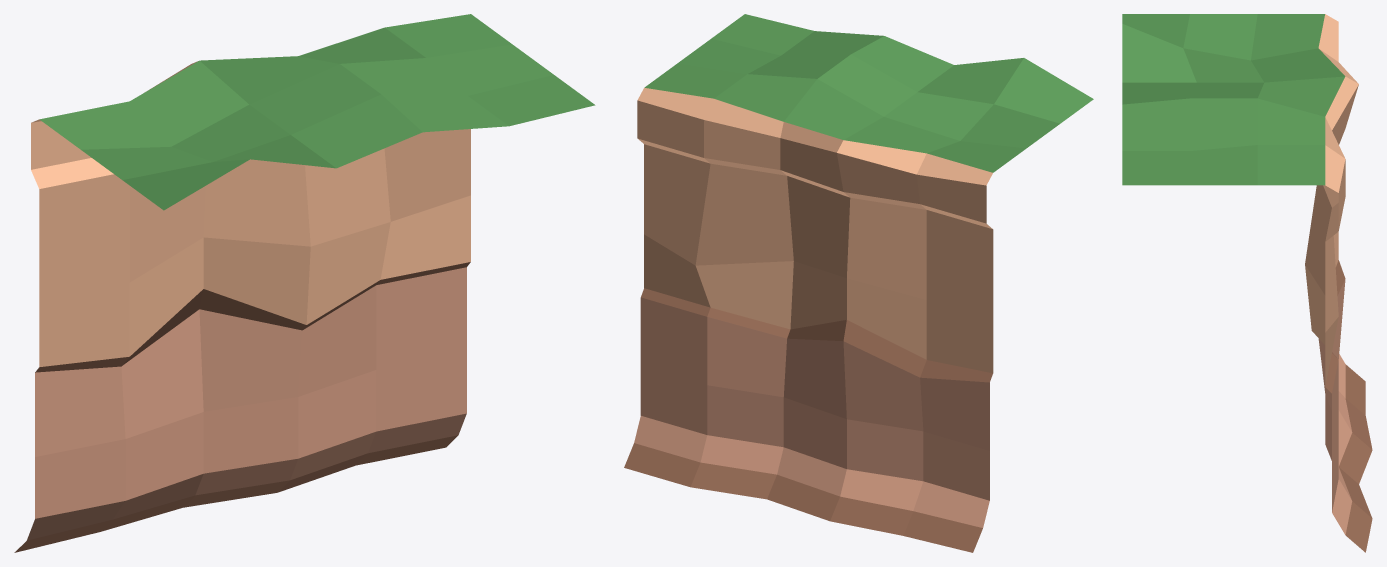
The model's file is CliffFace1.fbx.
The picture shows the model from 3 angles, left to right: view 1: azimuth 30°, elevation 25°; view 2: azimuth 150°, elevation 25°; view 3: azimuth 270°, elevation 25°; orthographic projection. The views are drawn at different scales.
Parts seen in each view (by area): view 1: Cliff1; view 2: Cliff1; view 3: Cliff1.
Boxes of the visible parts, x1,y1,x2,y2 form: Cliff1: (14,14,595,552); Cliff1: (624,14,1093,552); Cliff1: (1122,14,1372,552).
Size of the model in its own units: 19980 by 21312 by 12321.
